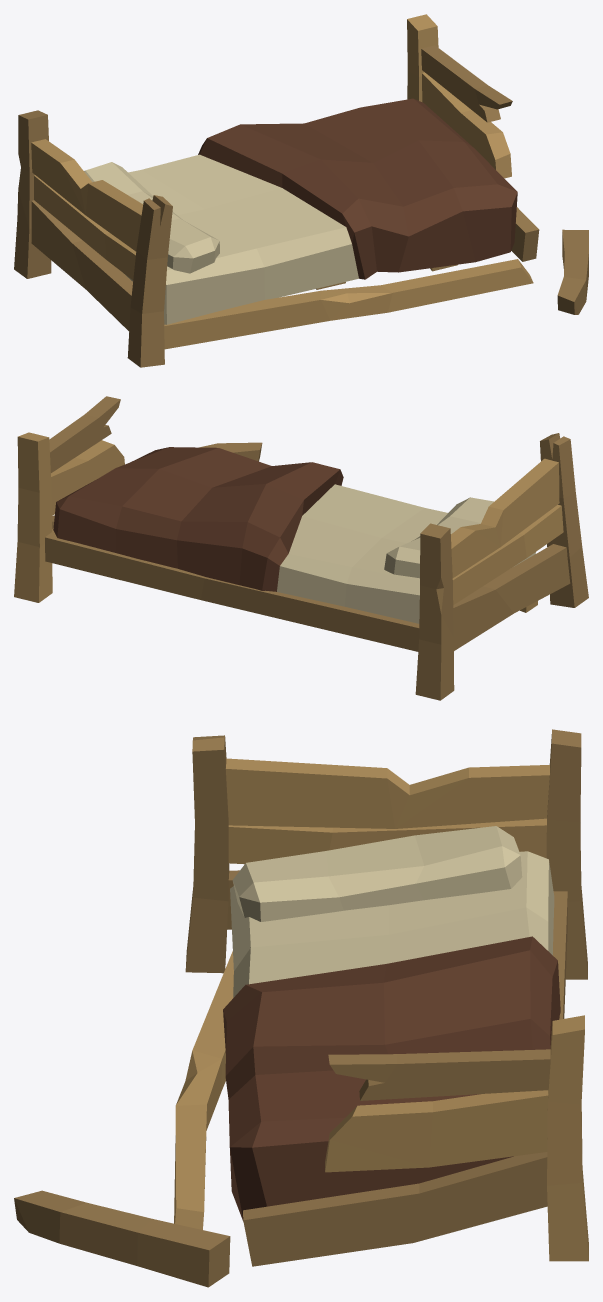
Rendered from Bed_Ruined.gltf.
The picture shows the model from 3 angles, top to bottom: view 1: azimuth 30°, elevation 25°; view 2: azimuth 150°, elevation 25°; view 3: azimuth 270°, elevation 25°; orthographic projection. The views are drawn at different scales.
Parts seen in each view (by area): view 1: Bed_Ruined2; view 2: Bed_Ruined2; view 3: Bed_Ruined2.
Boxes of the visible parts, box(x1,y1,x2,y2) form: Bed_Ruined2: box(14, 14, 588, 367); Bed_Ruined2: box(14, 396, 588, 700); Bed_Ruined2: box(14, 729, 588, 1287).
Size of the model in its own units: 0.6923 by 0.2409 by 0.5101.
1 material, 1 textured.
